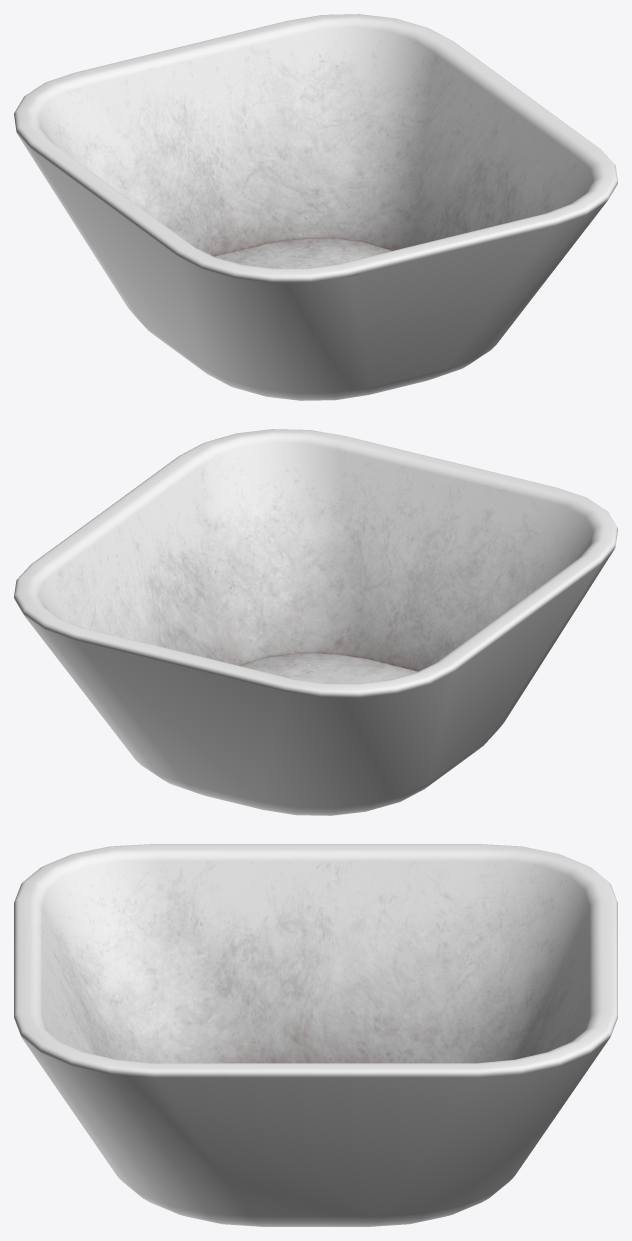
Rendered from Bathroom_Lavabo.fbx.
3 renders of one model, top to bottom at view 1: azimuth 30°, elevation 25°; view 2: azimuth 150°, elevation 25°; view 3: azimuth 270°, elevation 25°, orthographic. The views are drawn at different scales.
Visible parts, largest first — view 1: Cube; view 2: Cube; view 3: Cube.
Boxes of the visible parts, x1,y1,x2,y2 form: Cube: (14,14,617,400); Cube: (14,429,617,815); Cube: (14,844,617,1226).
Bounding box in the file's own units: 77.2 × 32.81 × 86.04.
Materials: 1 (1 with a texture image).
